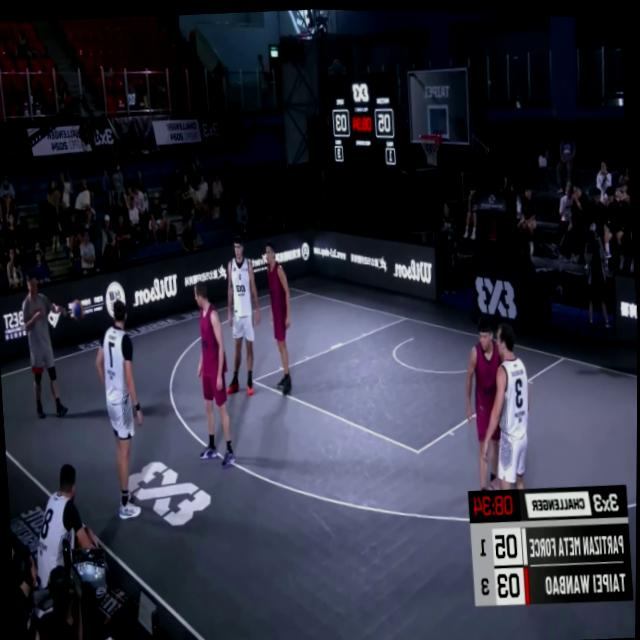hoop: (419, 124, 444, 168)
player: (474, 313, 539, 518), (94, 301, 151, 519), (458, 308, 513, 492), (188, 277, 236, 473), (219, 233, 265, 398), (262, 239, 297, 394)
